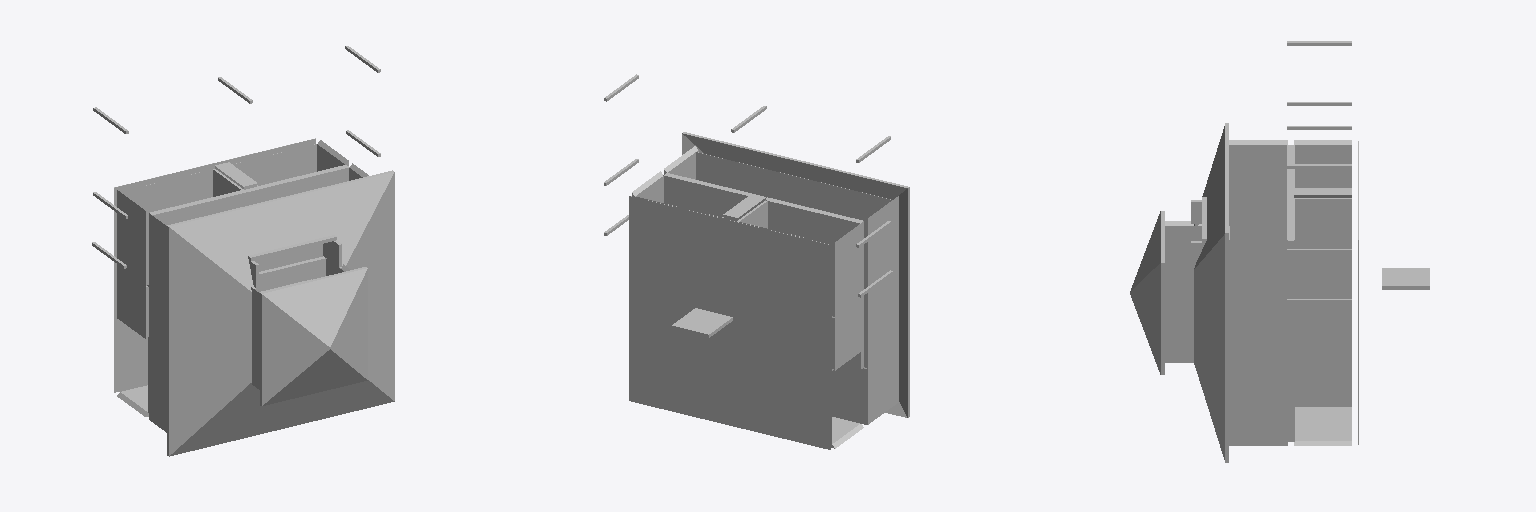
Rendered from beach condo.obj.
3 renders of one model, left to right at view 1: azimuth 30°, elevation 25°; view 2: azimuth 150°, elevation 25°; view 3: azimuth 270°, elevation 25°, orthographic.
Parts seen in each view (by area): view 1: 6/12_Slope_Hip_Roof_-_Clay_Tiles, 6/12_Slope_Hip_Roof_-_Shingles, Hardwood_Floor, 2_x_4_Vinyl_Siding, Suspended_Ceiling_Members_T, 6"_x_6"_Wood_Post, 2_x_4_Wood_Siding, 4, 4"_Concrete_Floor; view 2: Suspended_Ceiling_Members_T, 2_x_4_Vinyl_Siding, 6/12_Slope_Hip_Roof_-_Clay_Tiles, 4, 6"_x_6"_Wood_Post, Hardwood_Floor, 5; view 3: 2_x_4_Vinyl_Siding, 6/12_Slope_Hip_Roof_-_Clay_Tiles, 4, 6/12_Slope_Hip_Roof_-_Shingles, 2_x_4_Gypsum_Wallboard, 3, Hardwood_Floor, 6"_x_6"_Wood_Post, 48"_Bi-Fold_Door, 6, 2_x_4_Wood_Siding.
Part boxes in pixels (x1,y1,x2,y2): 6/12_Slope_Hip_Roof_-_Clay_Tiles: (167, 170, 394, 456); 6/12_Slope_Hip_Roof_-_Shingles: (260, 267, 367, 405); Hardwood_Floor: (120, 144, 349, 391); 2_x_4_Vinyl_Siding: (117, 140, 368, 432); Suspended_Ceiling_Members_T: (114, 138, 338, 412); 6"_x_6"_Wood_Post: (92, 46, 380, 268); 2_x_4_Wood_Siding: (248, 235, 341, 287); 4: (127, 168, 328, 396); 4"_Concrete_Floor: (254, 244, 322, 271); Suspended_Ceiling_Members_T: (629, 152, 891, 449); 2_x_4_Vinyl_Siding: (632, 146, 898, 448); 6/12_Slope_Hip_Roof_-_Clay_Tiles: (682, 132, 909, 417); 4: (652, 165, 890, 428); 6"_x_6"_Wood_Post: (604, 74, 892, 297); Hardwood_Floor: (635, 173, 863, 444); 5: (678, 310, 732, 337); 2_x_4_Vinyl_Siding: (1165, 140, 1351, 445); 6/12_Slope_Hip_Roof_-_Clay_Tiles: (1194, 123, 1228, 462); 4: (1240, 163, 1331, 433); 6/12_Slope_Hip_Roof_-_Shingles: (1130, 211, 1164, 374); 2_x_4_Gypsum_Wallboard: (1295, 198, 1351, 395); 3: (1169, 228, 1187, 357); Hardwood_Floor: (1229, 145, 1294, 441); 6"_x_6"_Wood_Post: (1287, 41, 1351, 302); 48"_Bi-Fold_Door: (1304, 202, 1351, 228); 6: (1382, 268, 1429, 289); 2_x_4_Wood_Siding: (1191, 197, 1206, 264).
Bounding box in the file's own units: 12.7 × 14.42 × 12.84.